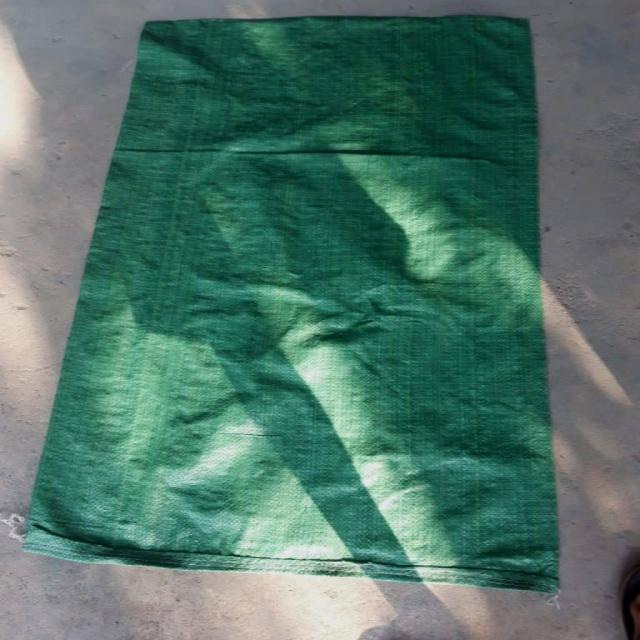gunny_bag: (25, 16, 559, 593)
